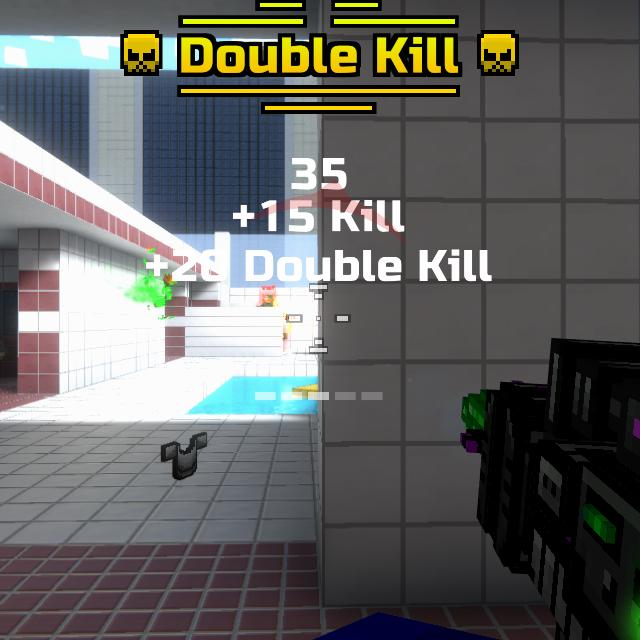Enemy: (261, 291, 277, 306)
